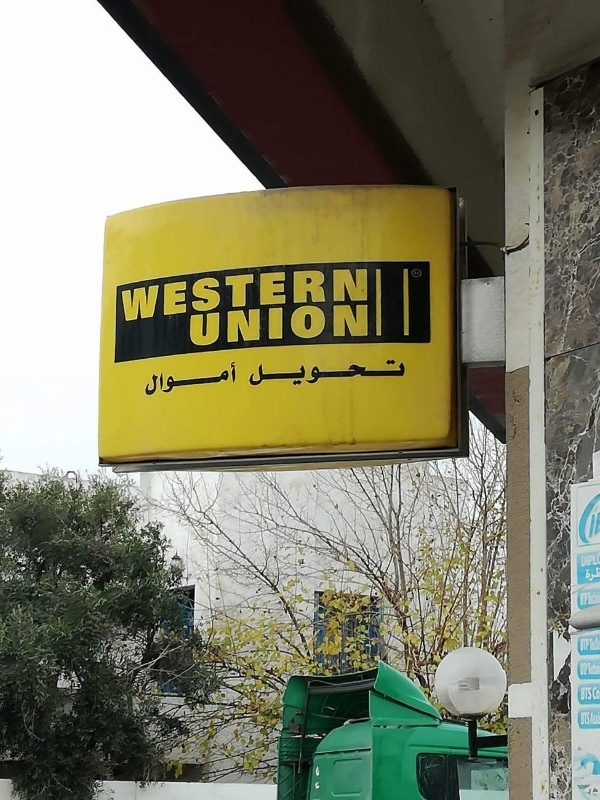text: (129, 264, 144, 323), (145, 264, 160, 323), (161, 264, 176, 323), (177, 264, 192, 323), (193, 264, 208, 323), (209, 264, 224, 323), (225, 264, 240, 323), (241, 264, 256, 323), (257, 264, 272, 323), (273, 264, 288, 323), (289, 264, 304, 323), (305, 264, 320, 323), (321, 264, 336, 323), (337, 264, 352, 323), (353, 264, 368, 323), (193, 298, 208, 348), (209, 298, 224, 348), (225, 298, 240, 348), (241, 298, 256, 348), (257, 298, 272, 348), (273, 298, 288, 348), (289, 298, 304, 348), (305, 298, 320, 348), (321, 298, 336, 348), (337, 298, 352, 348), (353, 298, 368, 348), (117, 264, 128, 323), (145, 361, 160, 398), (161, 361, 176, 398), (177, 361, 192, 398), (193, 361, 208, 398), (209, 361, 224, 398), (225, 361, 239, 398), (257, 358, 272, 387), (273, 358, 288, 387), (289, 358, 304, 387), (305, 358, 320, 387), (321, 358, 336, 387), (337, 358, 352, 387), (353, 358, 368, 387), (369, 358, 384, 387), (385, 358, 400, 387), (369, 298, 376, 348), (186, 298, 192, 348), (401, 358, 409, 387), (578, 591, 592, 607), (578, 636, 592, 652), (580, 551, 592, 569), (579, 661, 592, 676), (580, 685, 592, 701), (369, 264, 372, 323), (580, 711, 592, 725), (251, 358, 256, 387), (593, 551, 600, 569), (584, 568, 592, 583), (593, 591, 600, 607), (593, 636, 600, 652), (593, 685, 600, 701), (593, 568, 600, 583), (593, 661, 600, 676), (593, 711, 600, 725), (143, 361, 144, 398)
